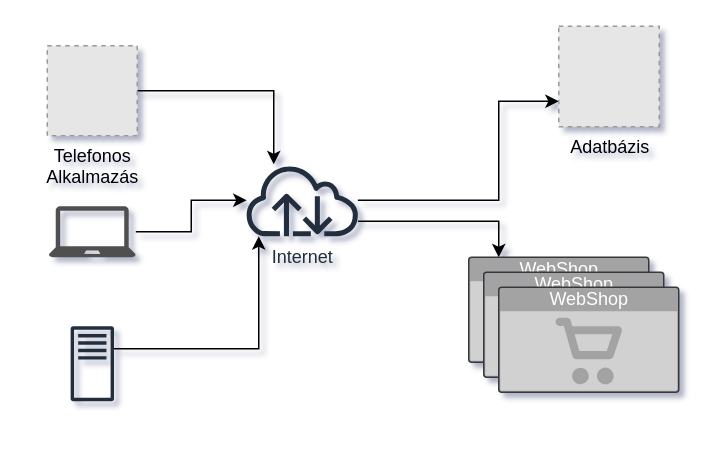
Some shapes in this 716 by 468 pixel diagram are drawn without their labels. Grey dashed boxes stand in for pictures. The box of each missing label's shape, as (x1, y1, x2, y2) in pixels:
Backend Service: (70, 326, 113, 400)
Böngésző kiegészítő: (48, 206, 135, 256)
